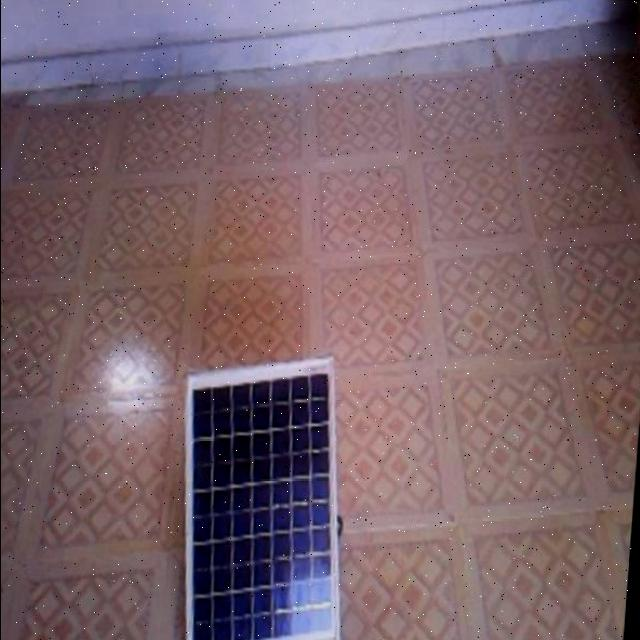Normal Solar Panel: (168, 352, 362, 640)
